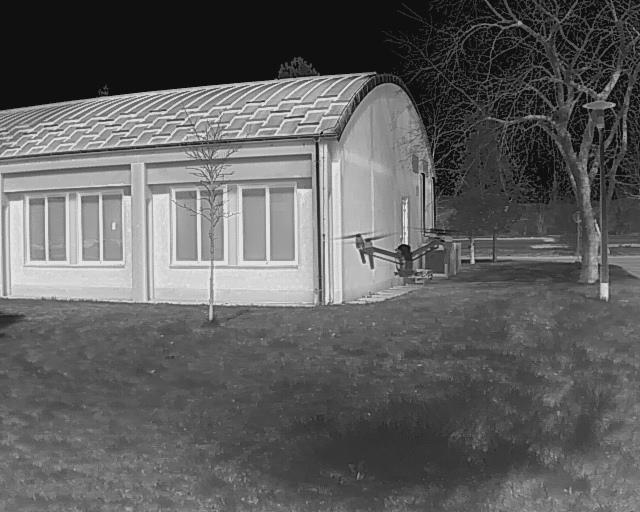drone: (332, 216, 468, 296)
